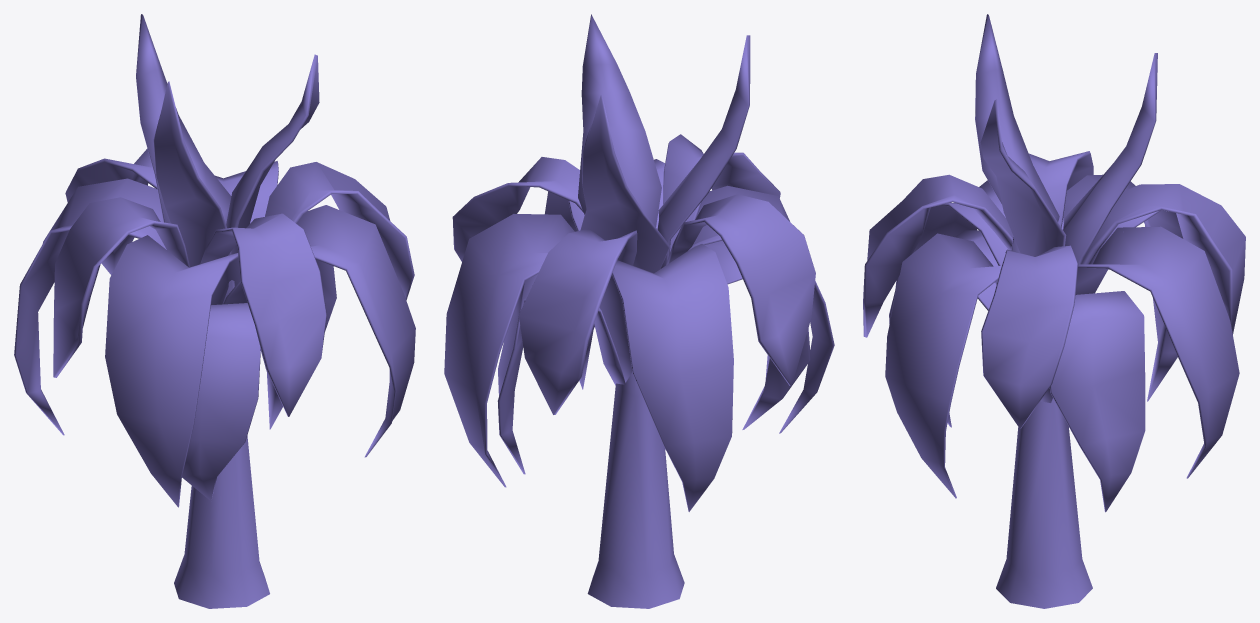
The model's file is Cactus_Leafy_03.fbx.
The picture shows the model from 3 angles, left to right: view 1: azimuth 30°, elevation 25°; view 2: azimuth 150°, elevation 25°; view 3: azimuth 270°, elevation 25°; orthographic projection. The views are drawn at different scales.
Parts seen in each view (by area): view 1: Cactus_Leafy_03; view 2: Cactus_Leafy_03; view 3: Cactus_Leafy_03.
Part boxes in pixels (left/top/right/bottom): Cactus_Leafy_03: left=14, top=14, right=415, bottom=608; Cactus_Leafy_03: left=444, top=14, right=834, bottom=608; Cactus_Leafy_03: left=863, top=14, right=1245, bottom=608.
Bounding box in the file's own units: 141 × 218 × 141.
